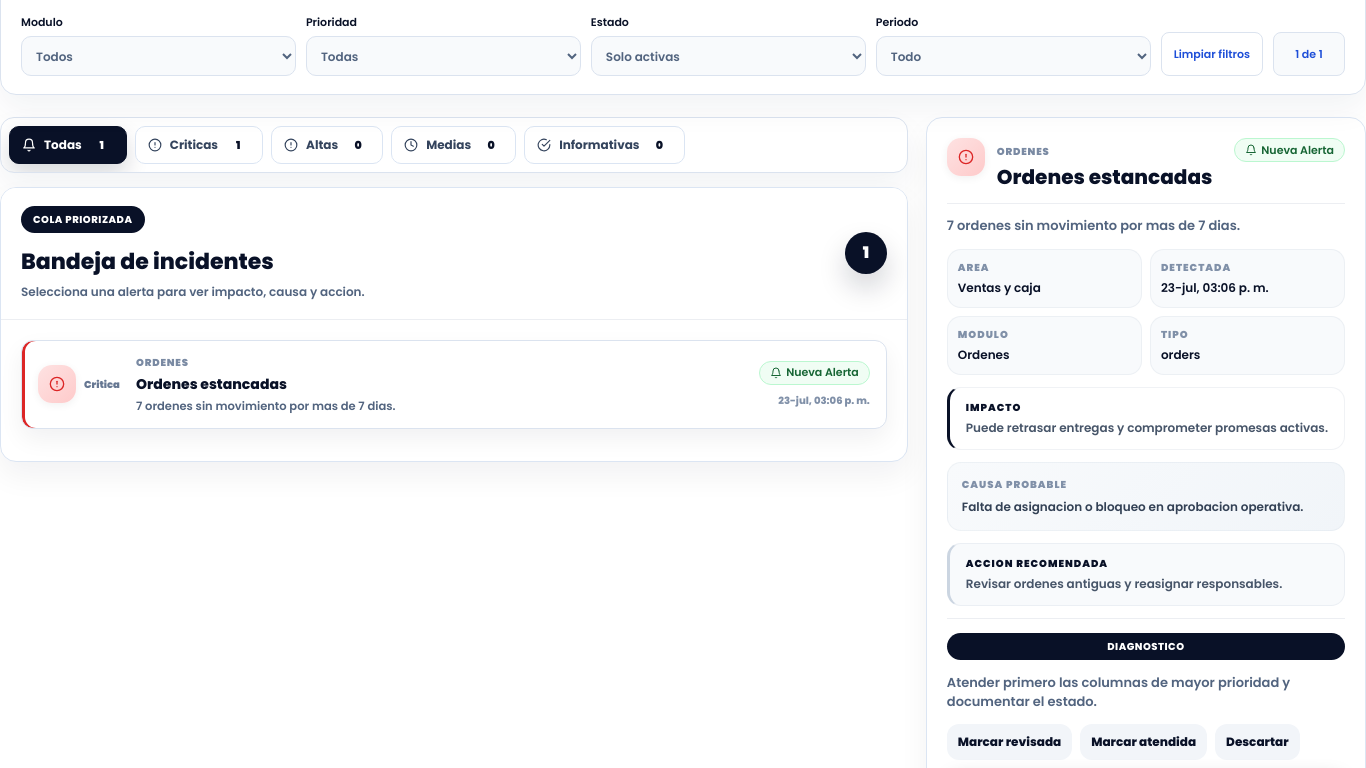
Scenario: KPIAlertsPanel incident detail modal › marks an open incident as attended by reusing the resolved status
What coordinates should you click on to do the following:
click the button with class "kpi-alert-center-row"
I would click on:
 (57, 384)
Its box is [21,340,887,429].
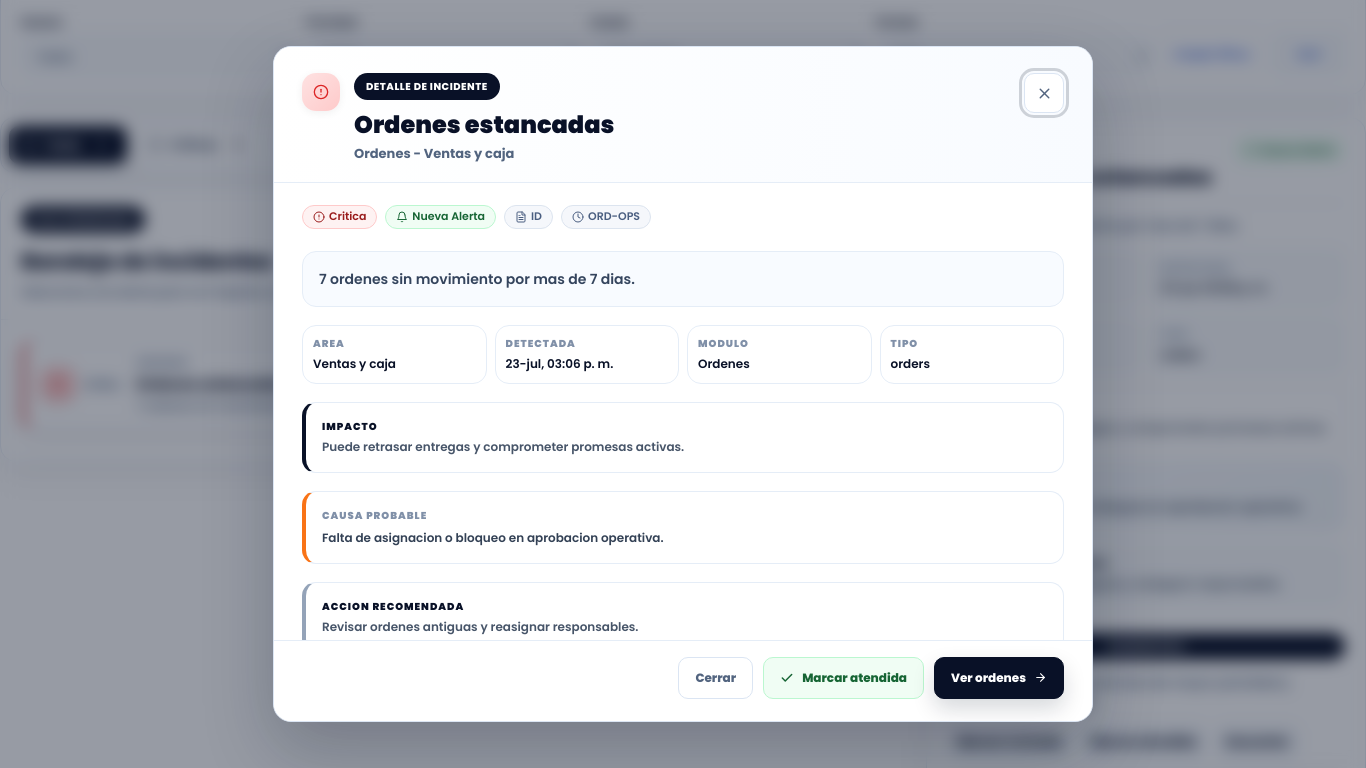
Expected: the button "Marcar atendida" is shown
What coordinates should you click on to do the following:
click the button "Marcar atendida"
I would click on:
 (844, 678)
Its box is [763,657,924,699].
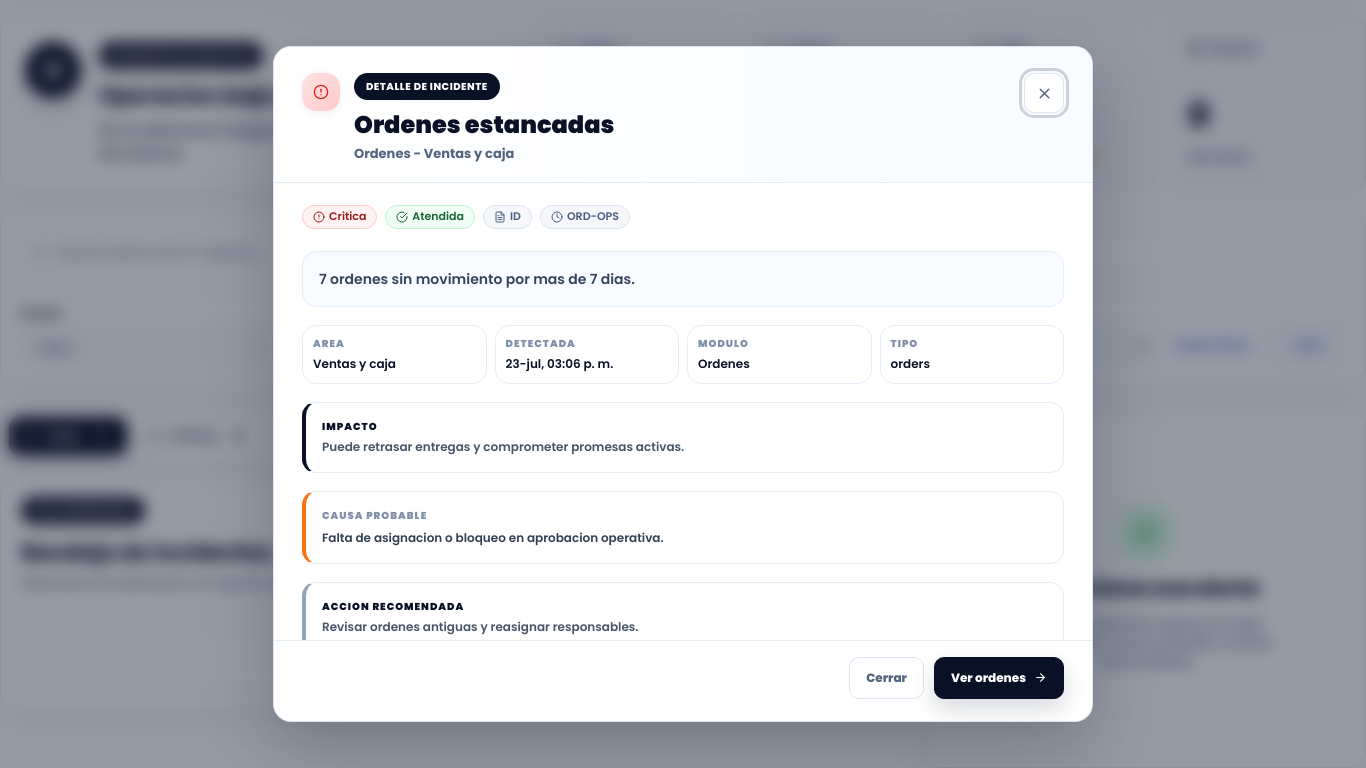
Expected: the button "Nueva Alerta" does not show "Nueva Alerta"
Expected: the dialog shows "Atendida", [412,208,464,224]
Expected: the button "Marcar atendida" no longer shows "Marcar atendida"
